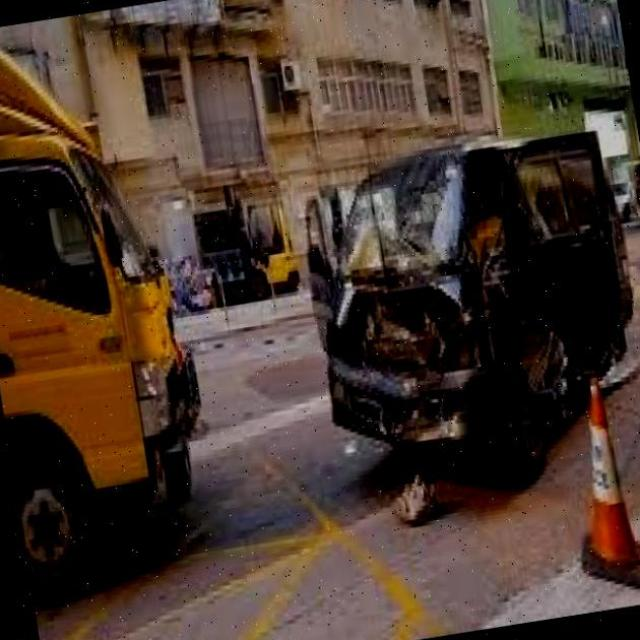accident: (282, 88, 640, 500)
